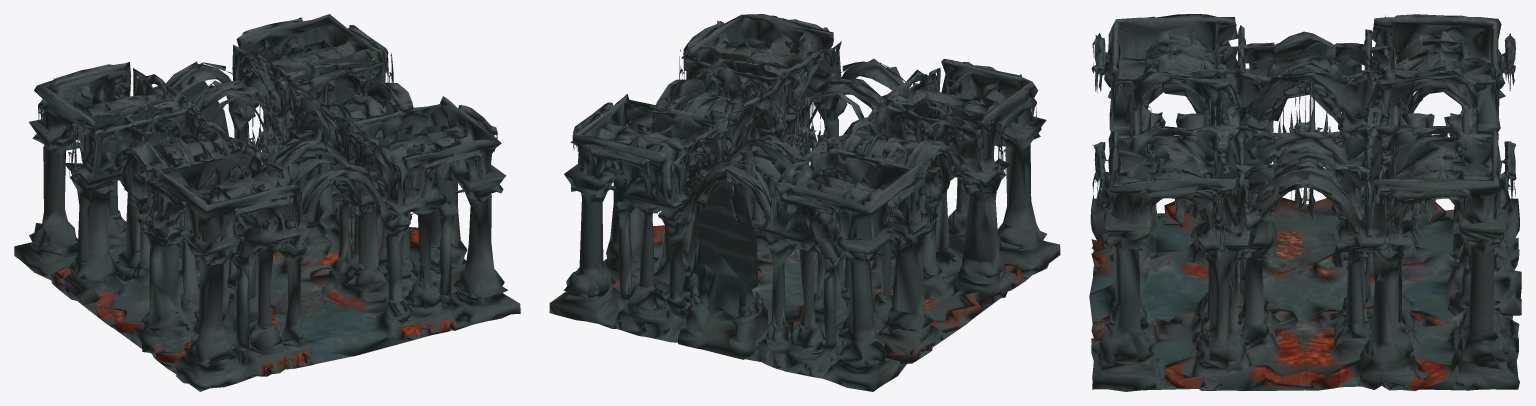
File: galaxy-hall.glb
3 renders of one model, left to right at view 1: azimuth 30°, elevation 25°; view 2: azimuth 150°, elevation 25°; view 3: azimuth 270°, elevation 25°, orthographic. The views are drawn at different scales.
Size of the model in its own units: 1.9 by 1.05 by 1.89.
Materials: 1 (1 with a texture image).
